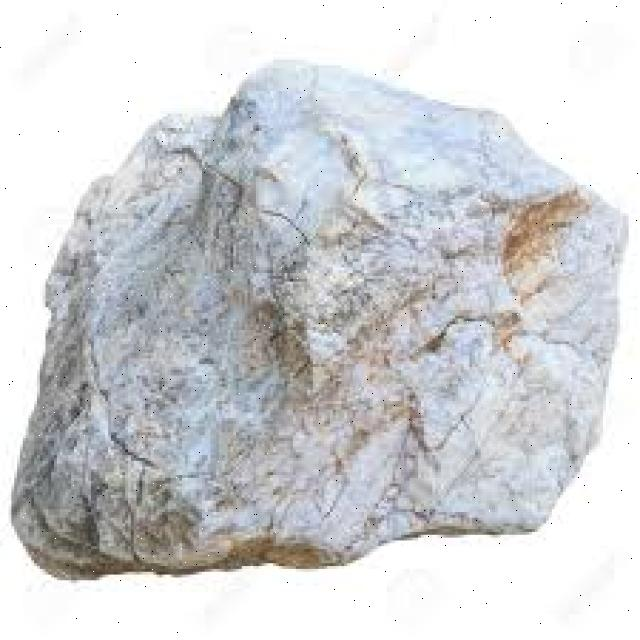Metamorphic: (74, 131, 626, 583)
